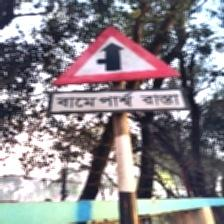Side-road-left: (48, 23, 188, 117)
